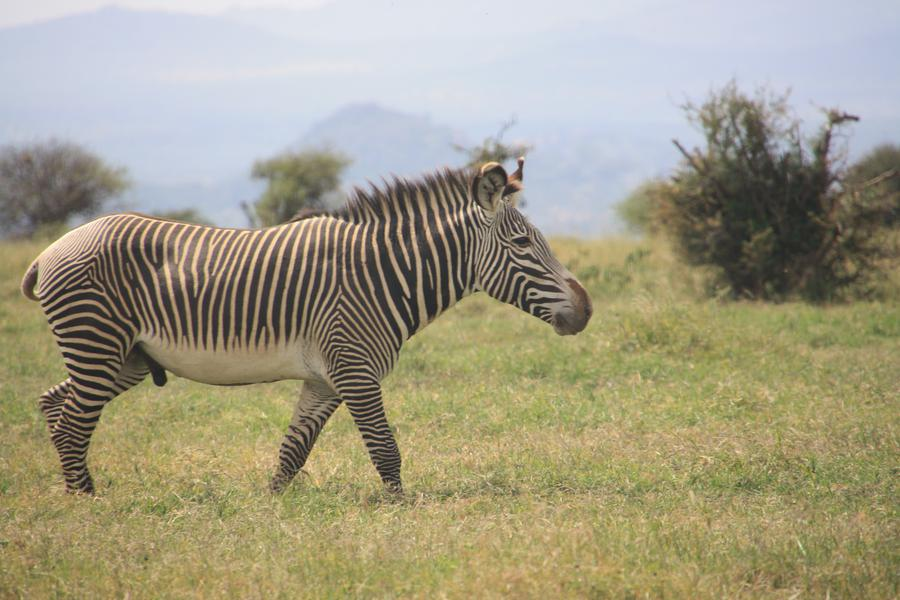zebra_grevys: (24, 213, 391, 373)
